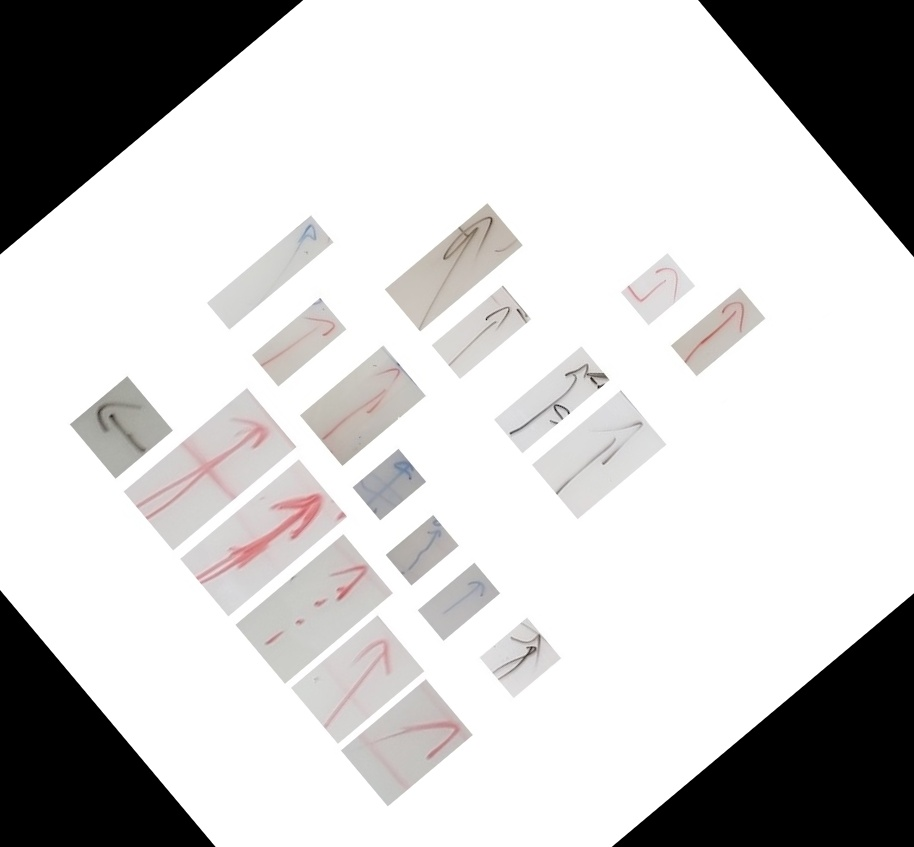arrow: (323, 661, 447, 775), (118, 400, 239, 502), (35, 358, 148, 463), (446, 600, 537, 684), (201, 477, 292, 553), (389, 210, 475, 283), (529, 402, 609, 470), (258, 547, 338, 614), (300, 356, 377, 420), (596, 238, 669, 305), (487, 349, 563, 413), (295, 630, 368, 692), (236, 299, 303, 355), (341, 429, 384, 506), (421, 291, 482, 342), (661, 291, 720, 340), (239, 216, 291, 260), (408, 565, 459, 607), (371, 517, 414, 554)
